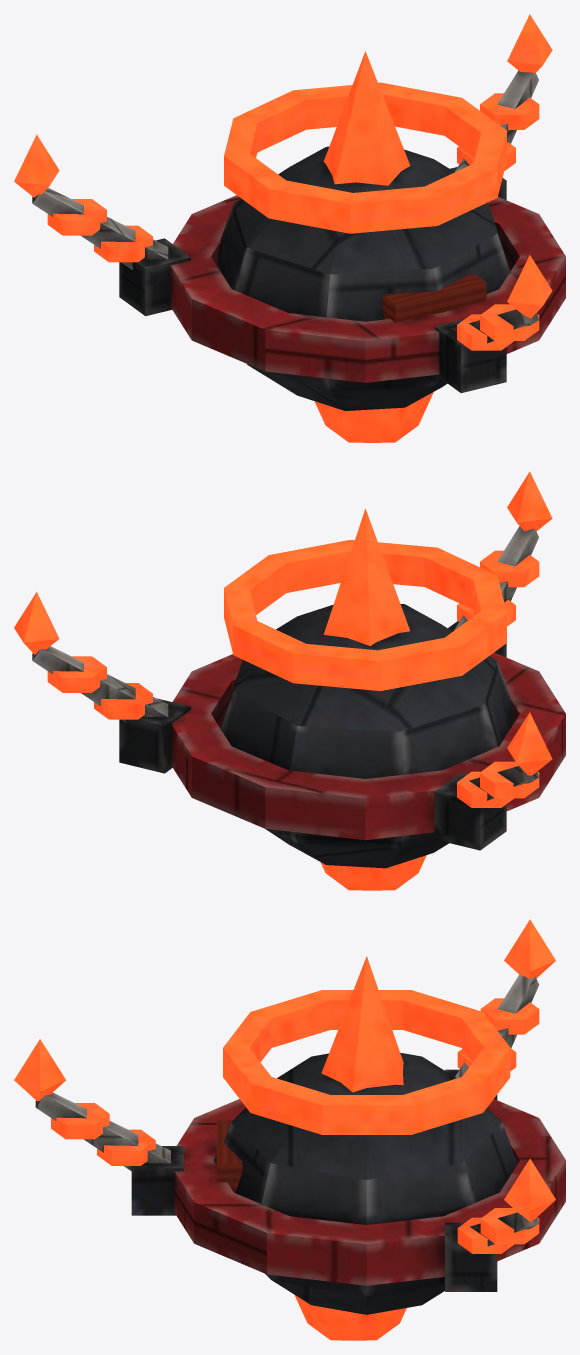
File: u_arcdrone2_e.glb
The picture shows the model from 3 angles, top to bottom: view 1: azimuth 30°, elevation 25°; view 2: azimuth 150°, elevation 25°; view 3: azimuth 270°, elevation 25°; orthographic projection.
Visible parts, largest first — view 1: u_arcdrone2_e; view 2: u_arcdrone2_e; view 3: u_arcdrone2_e.
Boxes of the visible parts, x1,y1,x2,y2 form: u_arcdrone2_e: [14, 14, 565, 442]; u_arcdrone2_e: [14, 471, 565, 890]; u_arcdrone2_e: [14, 919, 565, 1340].
Size of the model in its own units: 1.15 by 0.793 by 1.03.
1 material, 1 textured.
